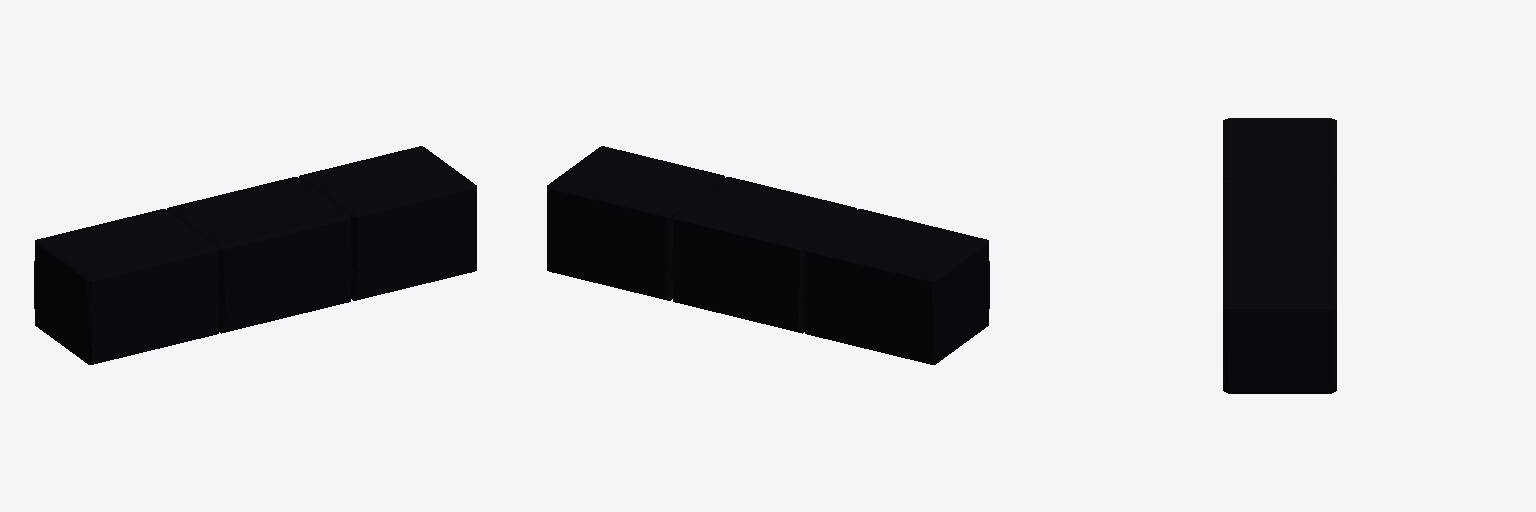
The model's file is WallCover_Modular.obj.
The picture shows the model from 3 angles: view 1: azimuth 30°, elevation 25°; view 2: azimuth 150°, elevation 25°; view 3: azimuth 270°, elevation 25°; orthographic projection.
Visible parts, largest first — view 1: WallCover_Modular_Cube.017; view 2: WallCover_Modular_Cube.017; view 3: WallCover_Modular_Cube.017.
Boxes of the visible parts, x1,y1,x2,y2 form: WallCover_Modular_Cube.017: [34, 146, 476, 364]; WallCover_Modular_Cube.017: [547, 146, 989, 364]; WallCover_Modular_Cube.017: [1223, 118, 1336, 393].
Size of the model in its own units: 2.01 by 0.4316 by 0.5092.